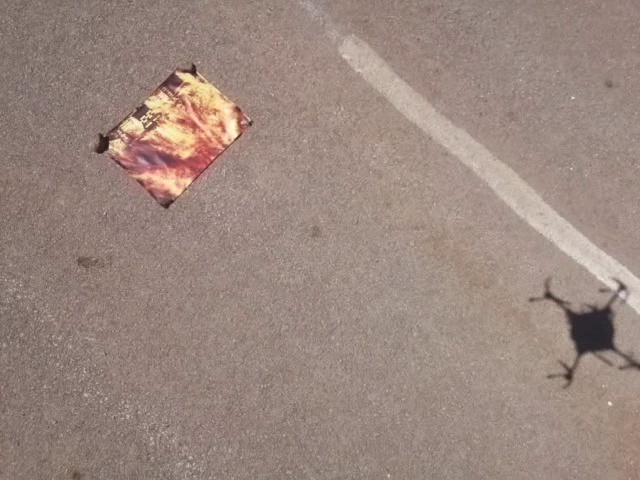fire-poster: (95, 60, 254, 211)
